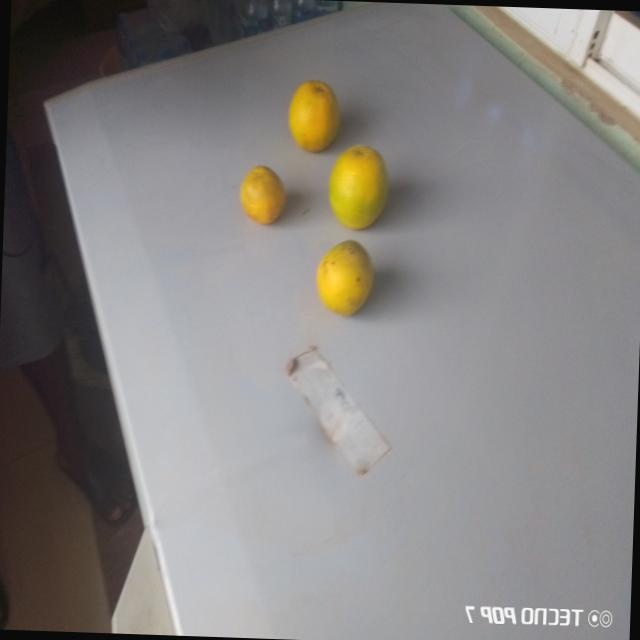agrume: (323, 135, 412, 228), (286, 60, 360, 154), (312, 241, 379, 327), (235, 158, 297, 230)
